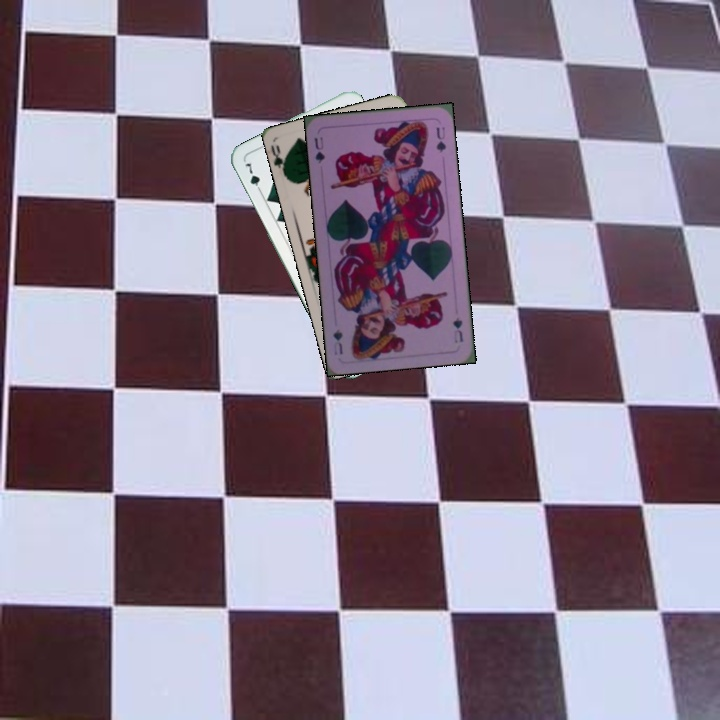G7: (241, 157, 265, 196)
GO: (269, 141, 291, 180)
GU: (310, 133, 328, 166), (449, 313, 465, 346)
